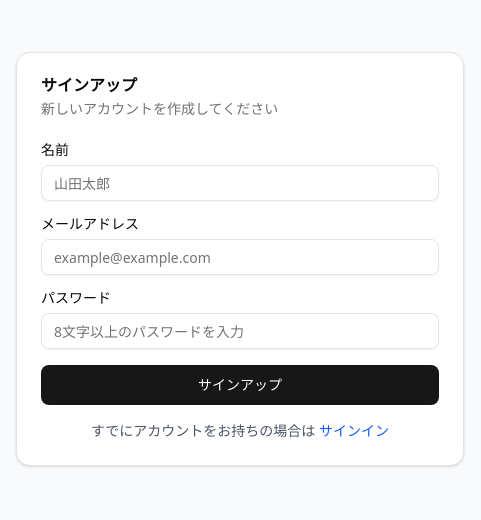
Test: SignUpPage › should show error message on failed sign up
The image size is (481, 520).
Type "Test User" into the field labelled "名前" at [240, 183], box [41, 165, 439, 201]
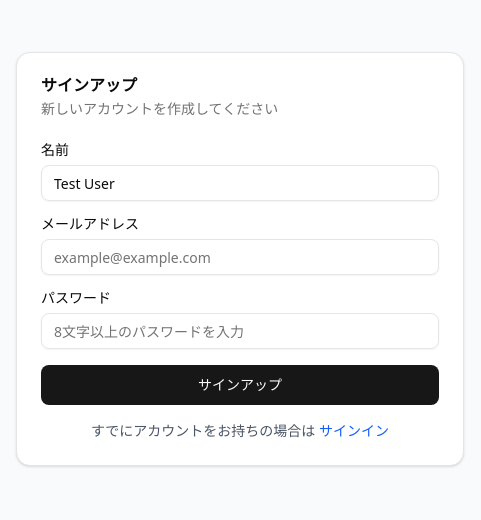
Type "test@example.com" into the field labelled "メールアドレス" at [240, 257], box [41, 239, 439, 275]
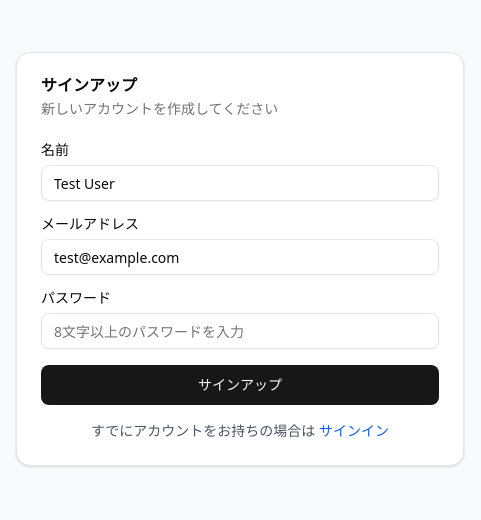
Type "password123" into the password field labelled "パスワード" at [240, 331], box [41, 313, 439, 349]
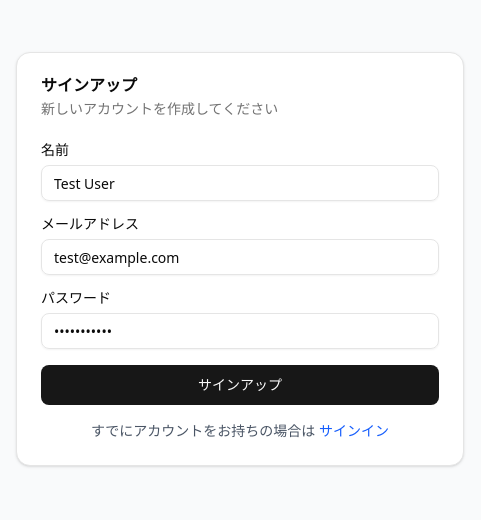
Click the button "サインアップ" at [240, 385], box [41, 365, 439, 405]
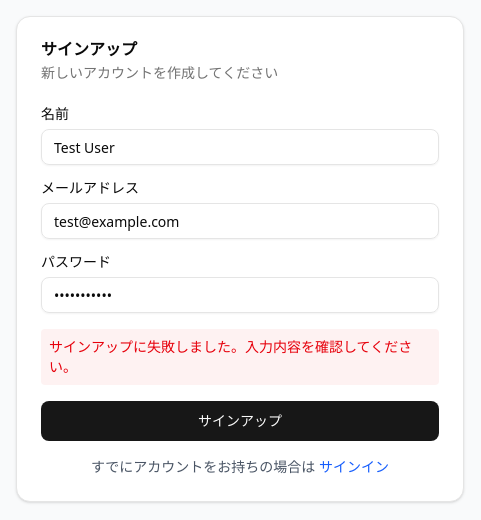
expect the text "サインアップに失敗しました。入力内容を確認してください。" is shown: met, box [41, 329, 439, 385]
